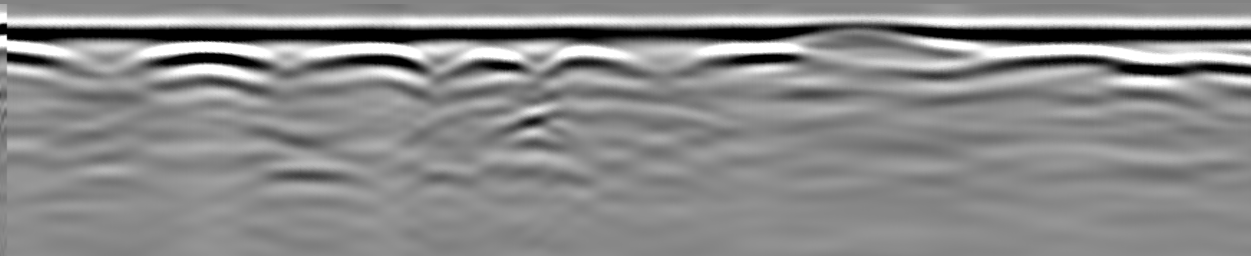pipe: (793, 20, 948, 60)
steel: (996, 45, 1251, 82), (297, 44, 430, 75), (138, 45, 275, 74), (538, 44, 646, 78), (4, 42, 88, 77), (445, 47, 535, 76)
